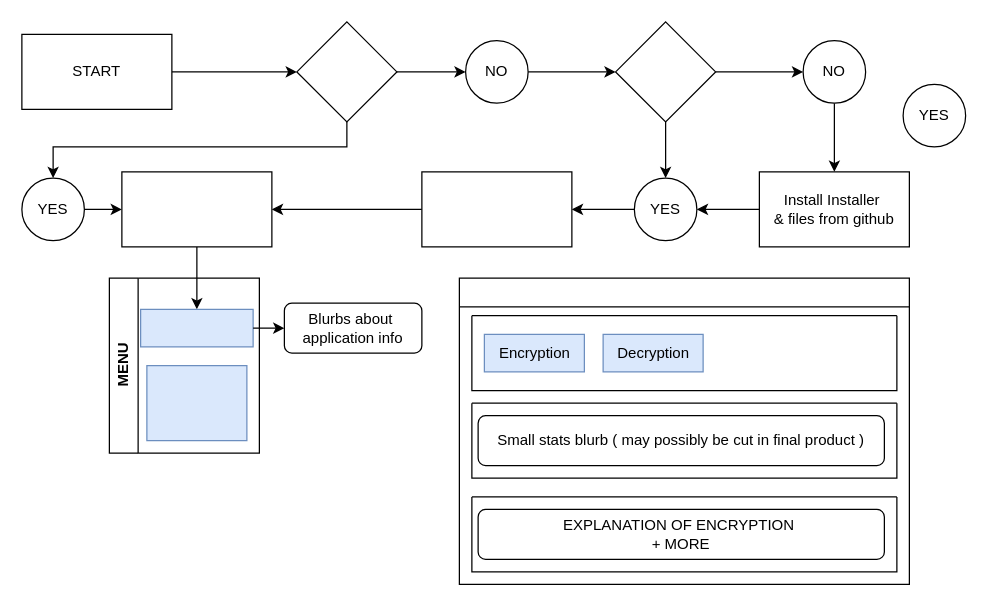
This 988x606 diagram has some shape labels left out. Here are the shapes that lost their labels. From the top down, the box of each, then its label:
(296, 21, 397, 122): App Installed?
(614, 21, 716, 122): Installer Installed?
(121, 171, 272, 247): Application start
(421, 171, 572, 247): Use Install Wizard To install App
(139, 308, 253, 347): Homepage
(146, 364, 247, 441): Encryption Types 1 to 3+
(458, 277, 909, 584): Per type of encryption
